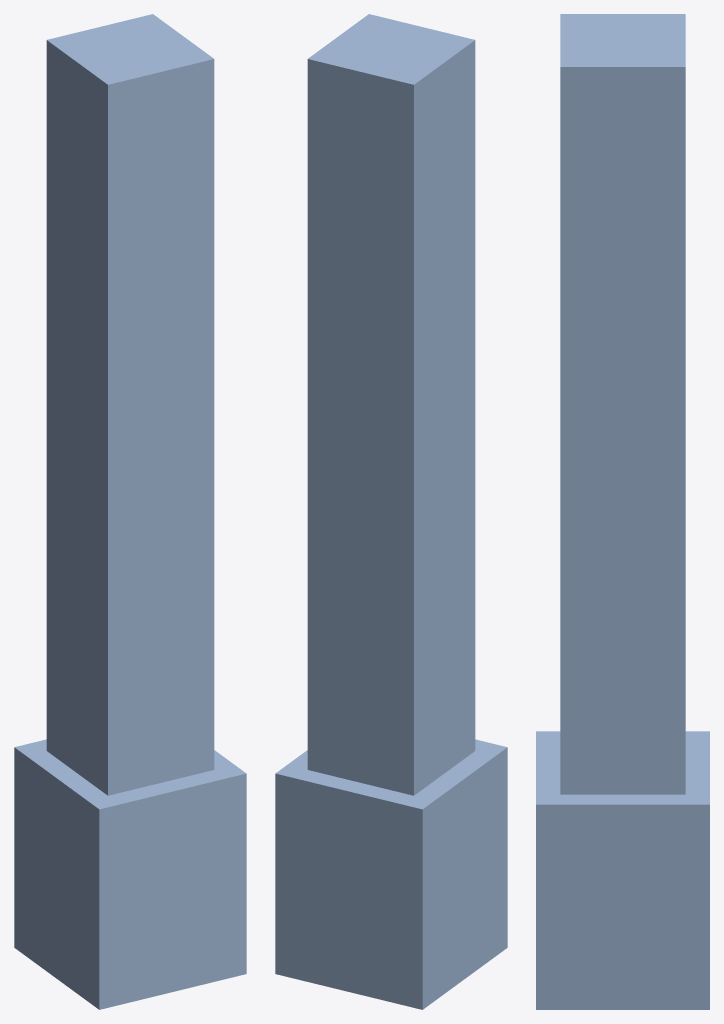
The model's file is sky_podium.glb.
The picture shows the model from 3 angles, left to right: view 1: azimuth 30°, elevation 25°; view 2: azimuth 150°, elevation 25°; view 3: azimuth 270°, elevation 25°; orthographic projection. The views are drawn at different scales.
Visible parts, largest first — view 1: sky_podium; view 2: sky_podium; view 3: sky_podium.
Part boxes in pixels (x1,y1,x2,y2): sky_podium: [14, 14, 246, 1009]; sky_podium: [275, 14, 507, 1009]; sky_podium: [536, 14, 709, 1009].
Size of the model in its own units: 0.7776 by 4.6 by 0.7776.
